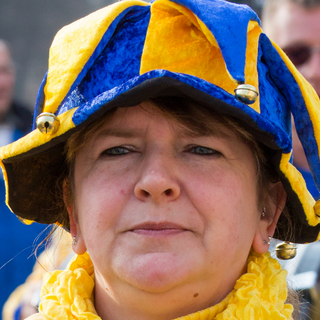eye: (176, 140, 229, 167), (93, 140, 145, 163)
